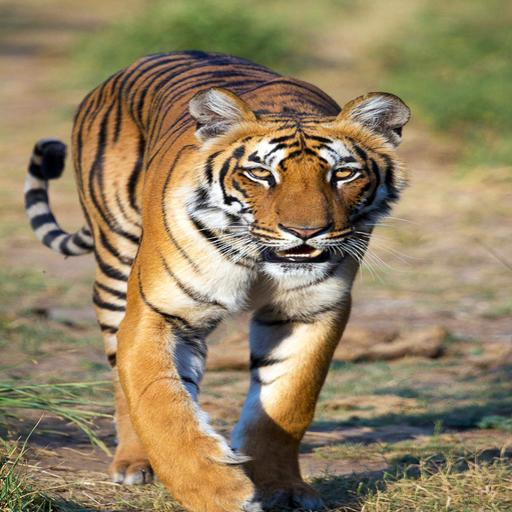Tiger: (23, 30, 415, 512)
